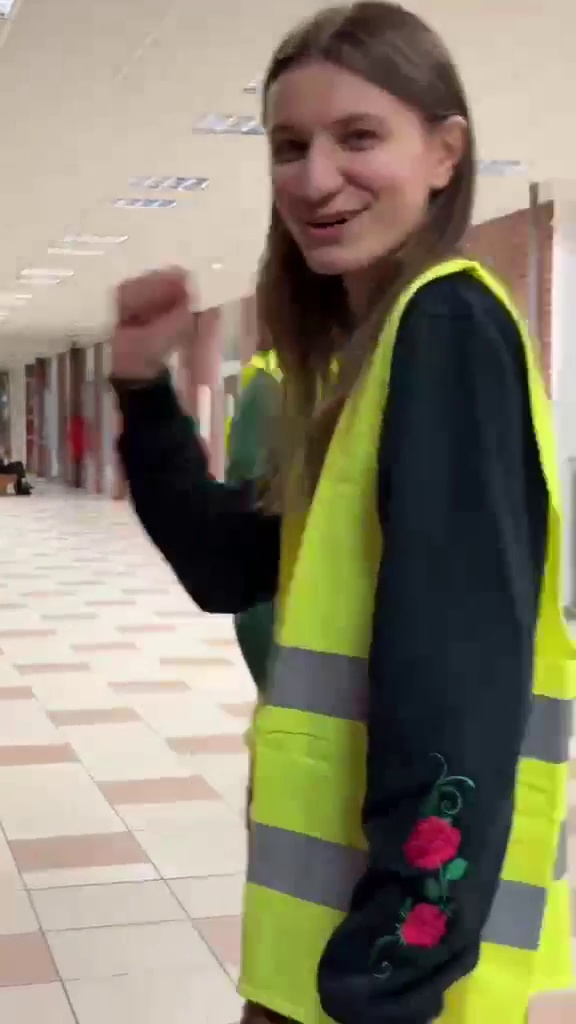vest: (124, 11, 566, 996)
